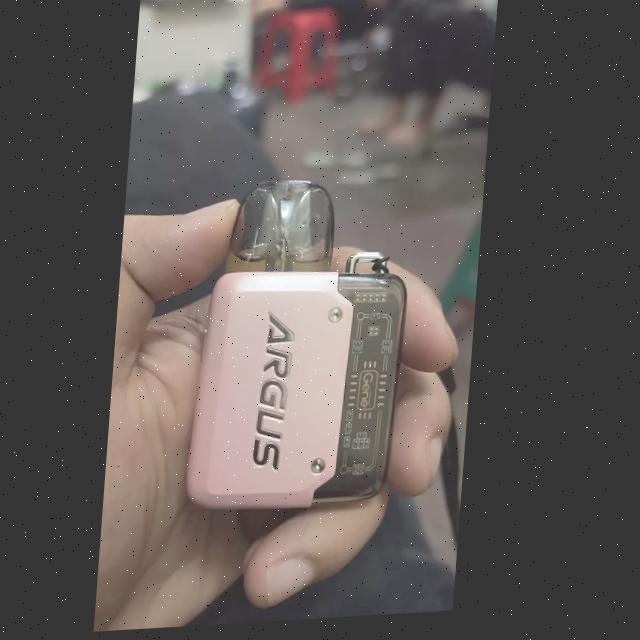vape: (190, 176, 422, 520)
